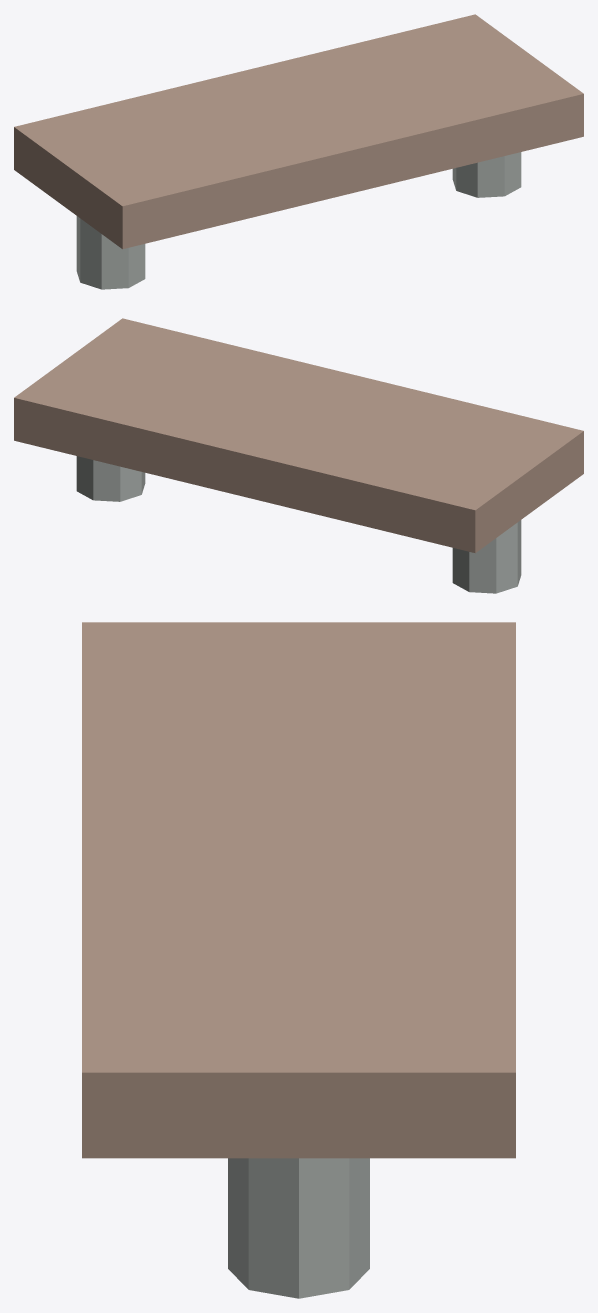
Rendered from bridge-arched.glb.
3 renders of one model, top to bottom at view 1: azimuth 30°, elevation 25°; view 2: azimuth 150°, elevation 25°; view 3: azimuth 270°, elevation 25°, orthographic. The views are drawn at different scales.
Parts seen in each view (by area): view 1: bridge-arched; view 2: bridge-arched; view 3: bridge-arched.
Part boxes in pixels (box(x1,y1,x2,y2)): bridge-arched: box(14, 14, 583, 289); bridge-arched: box(14, 318, 583, 593); bridge-arched: box(82, 622, 515, 1298).
Size of the model in its own units: 2.7 by 0.665 by 1.1.
